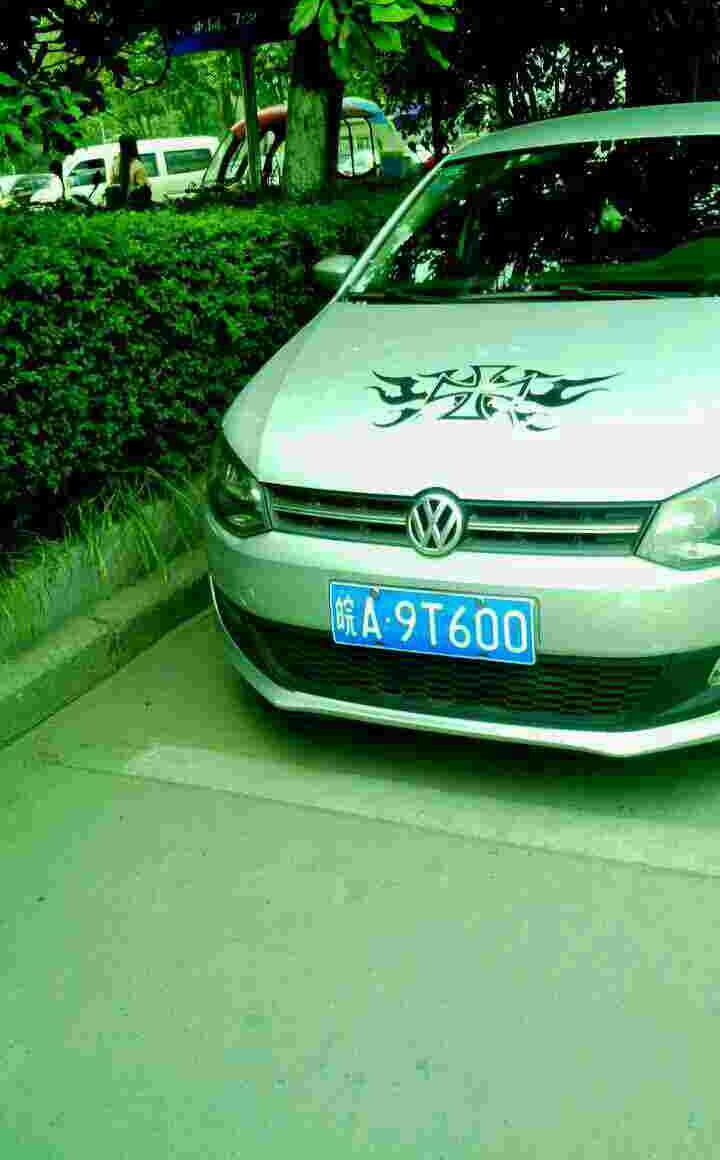license_plate: (326, 573, 551, 668)
